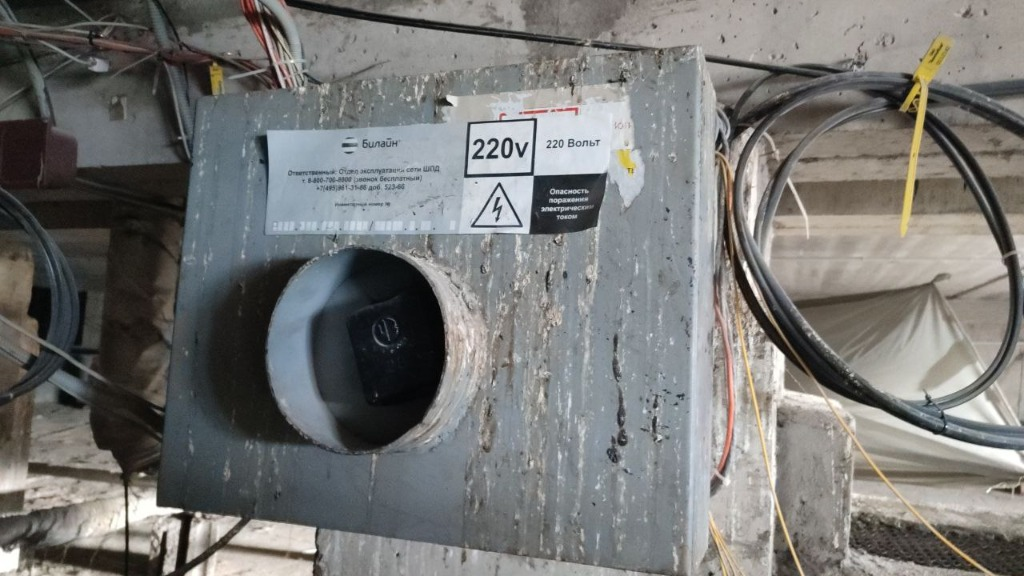shta-3: (153, 45, 720, 572)
